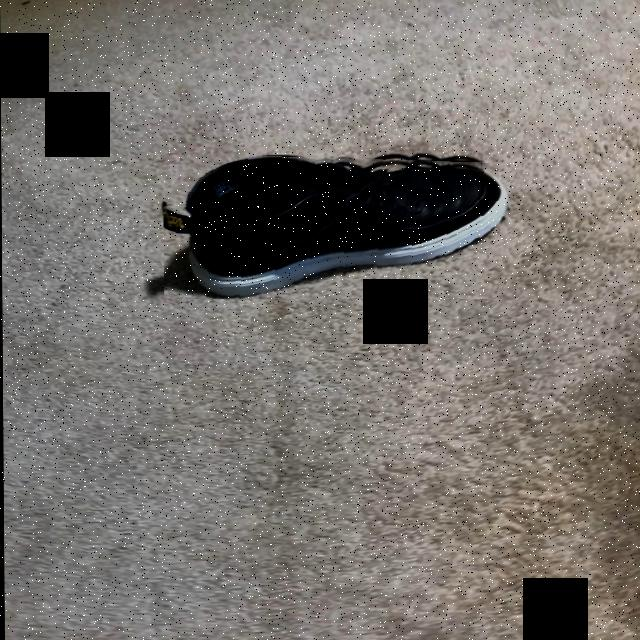shoe: (163, 158, 509, 299)
